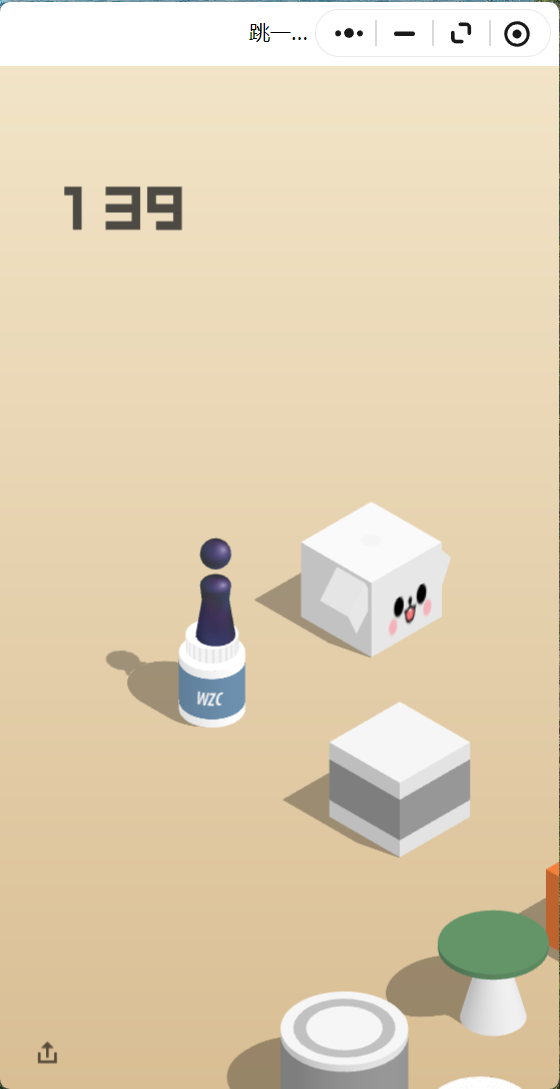piece: (201, 539, 231, 642)
target: (302, 502, 441, 582)
